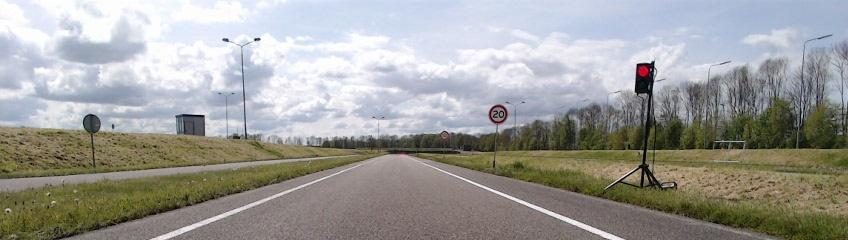Speed-limit-10km-h-: (440, 131, 449, 140)
Speed-limit-20km-h-: (489, 105, 508, 124)
TrafficLight-red: (635, 63, 651, 93)
